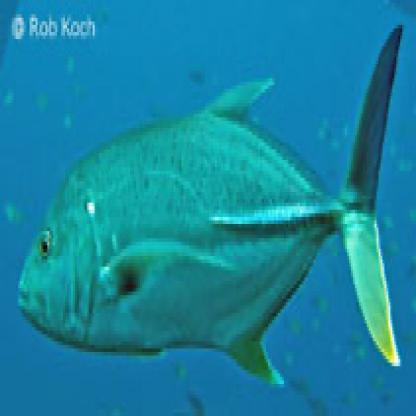Bio: (13, 14, 408, 406)
